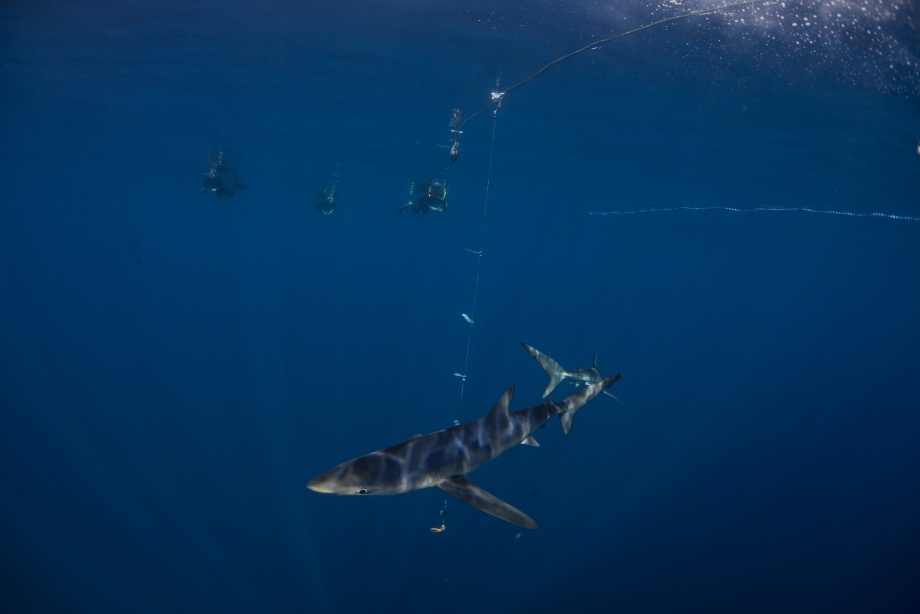Azul: (283, 327, 637, 550)
